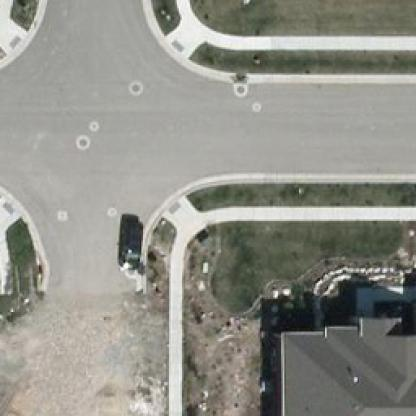car: (116, 214, 144, 265)
